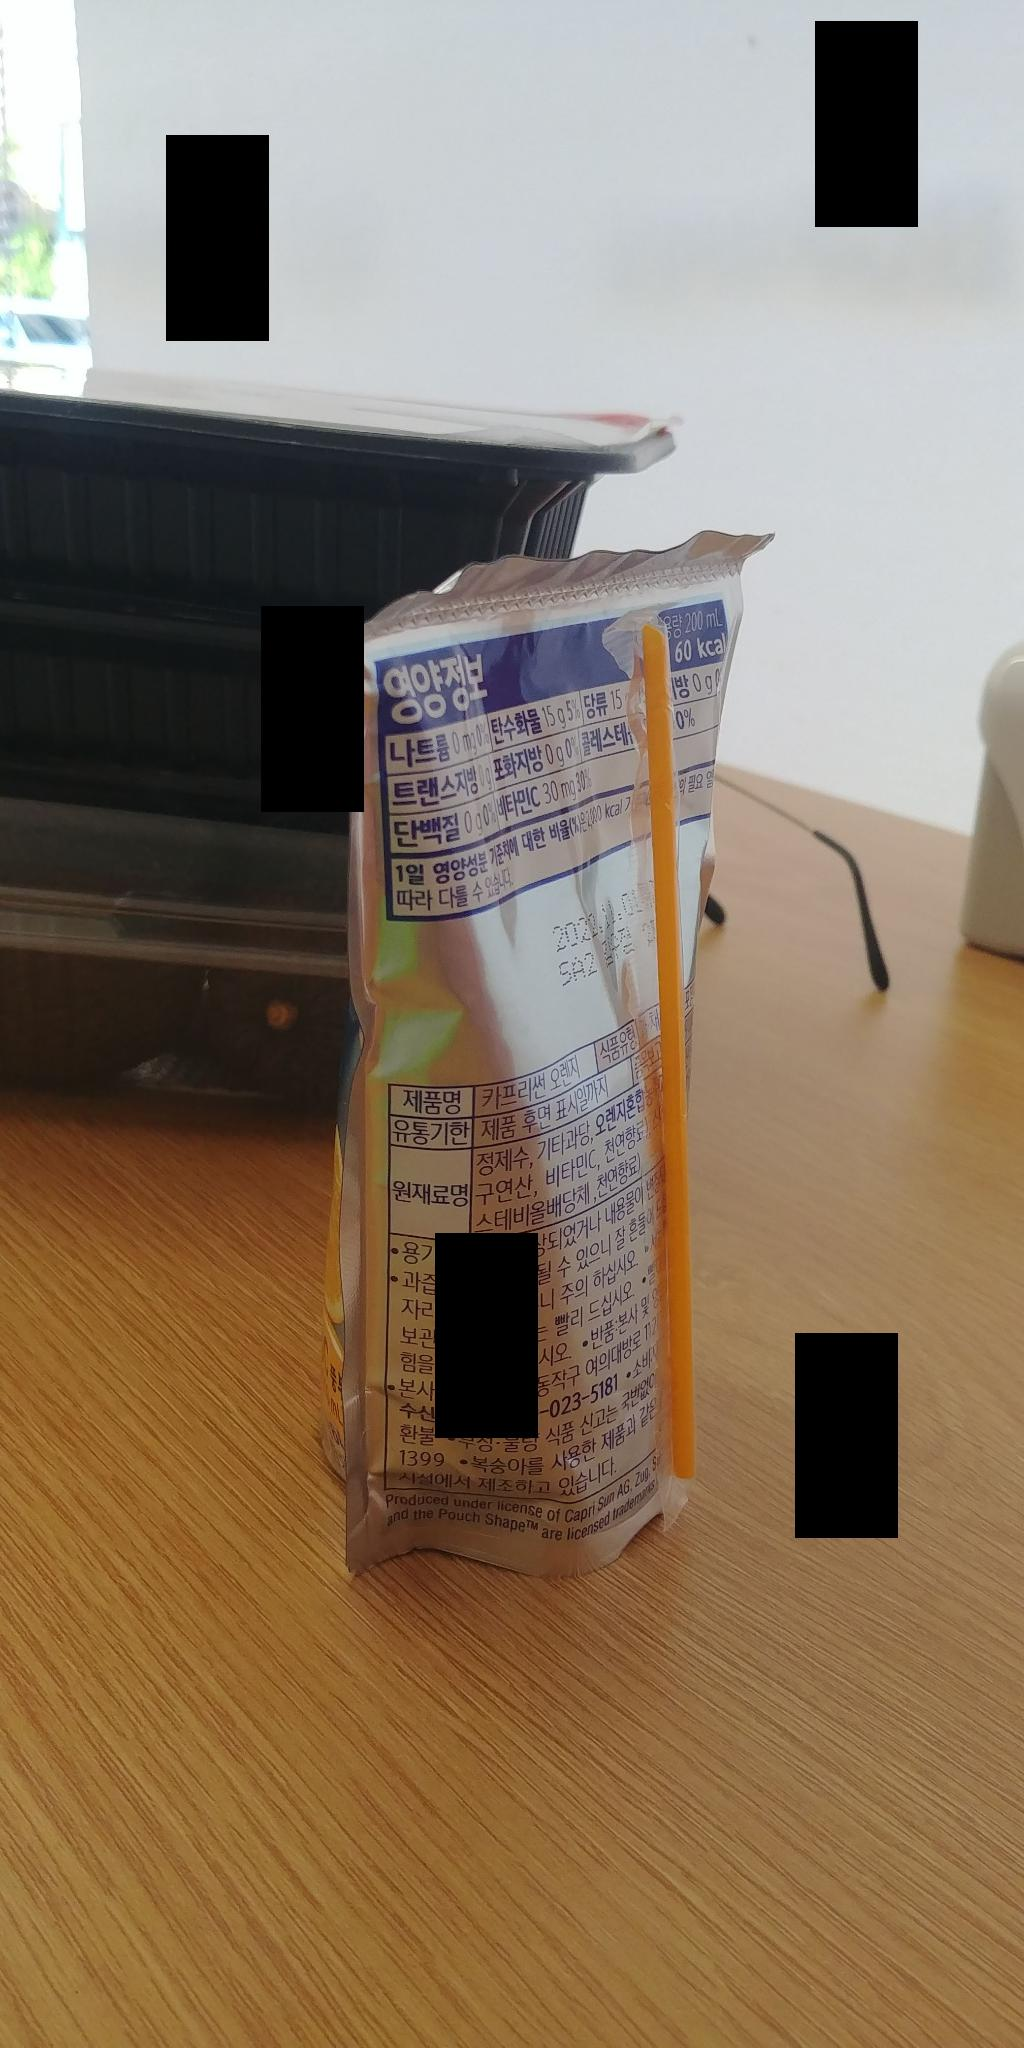cafrisun: (281, 517, 777, 1586)
